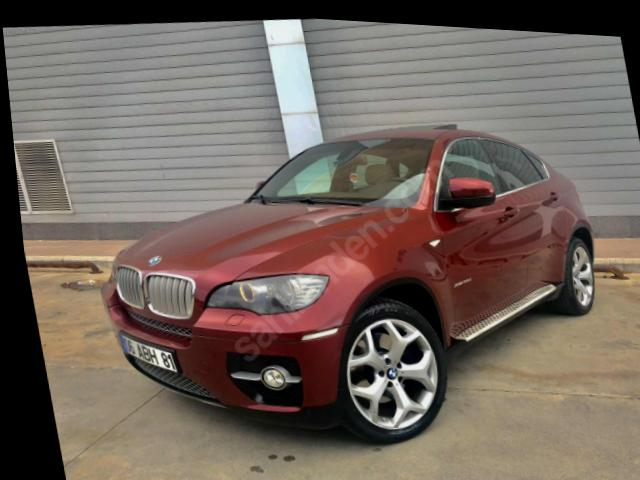plaka: (119, 334, 177, 371)
